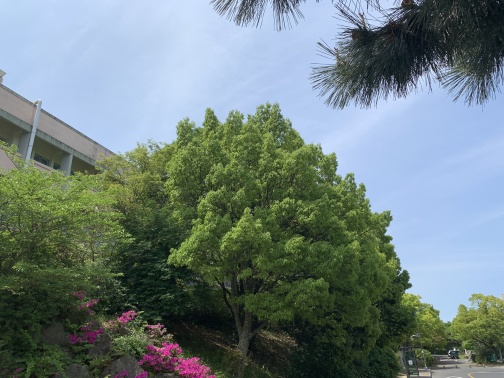College Of Education: (1, 69, 150, 222)
